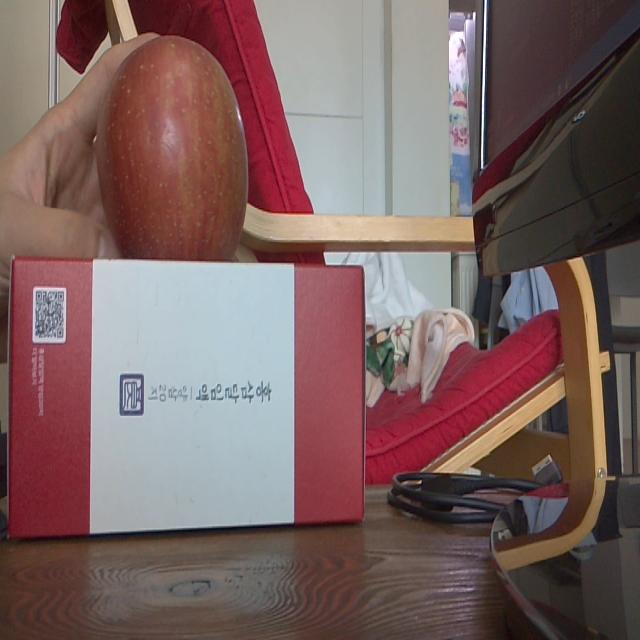apple: (94, 21, 254, 261)
